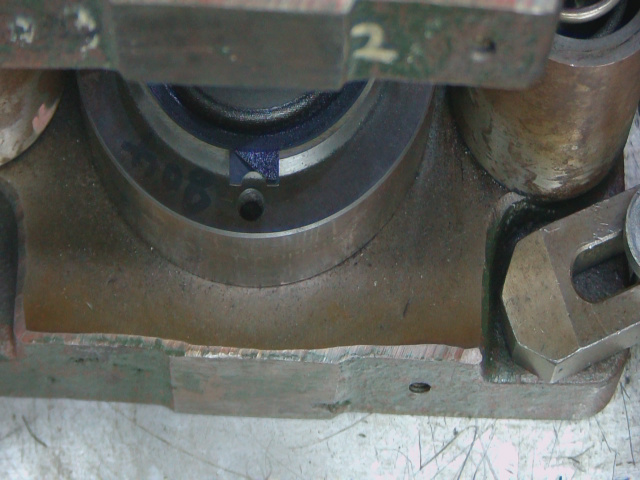OK: (224, 142, 296, 194)
